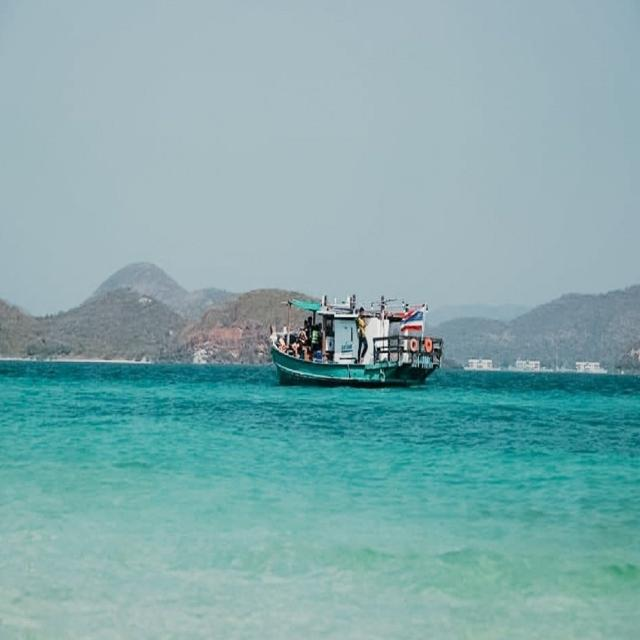fishing boat: (266, 289, 441, 385)
